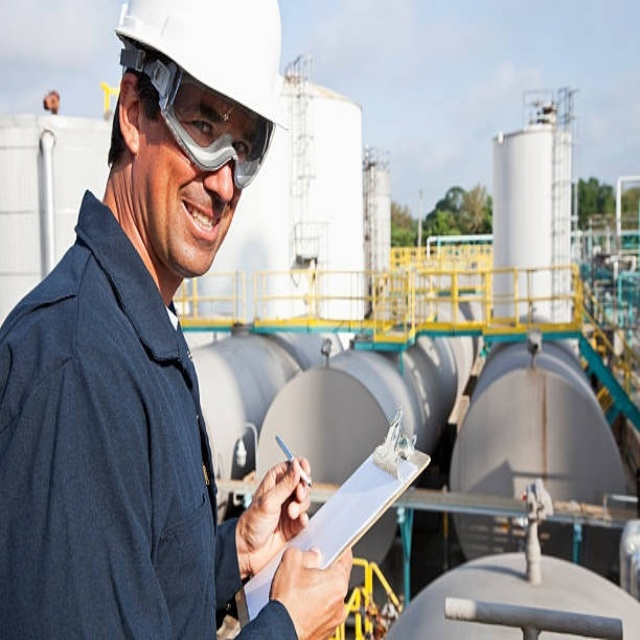Gafas: (121, 44, 277, 191)
Sin_guantes: (236, 453, 317, 582), (267, 535, 358, 632)
Sin_mascara: (166, 191, 229, 251)
